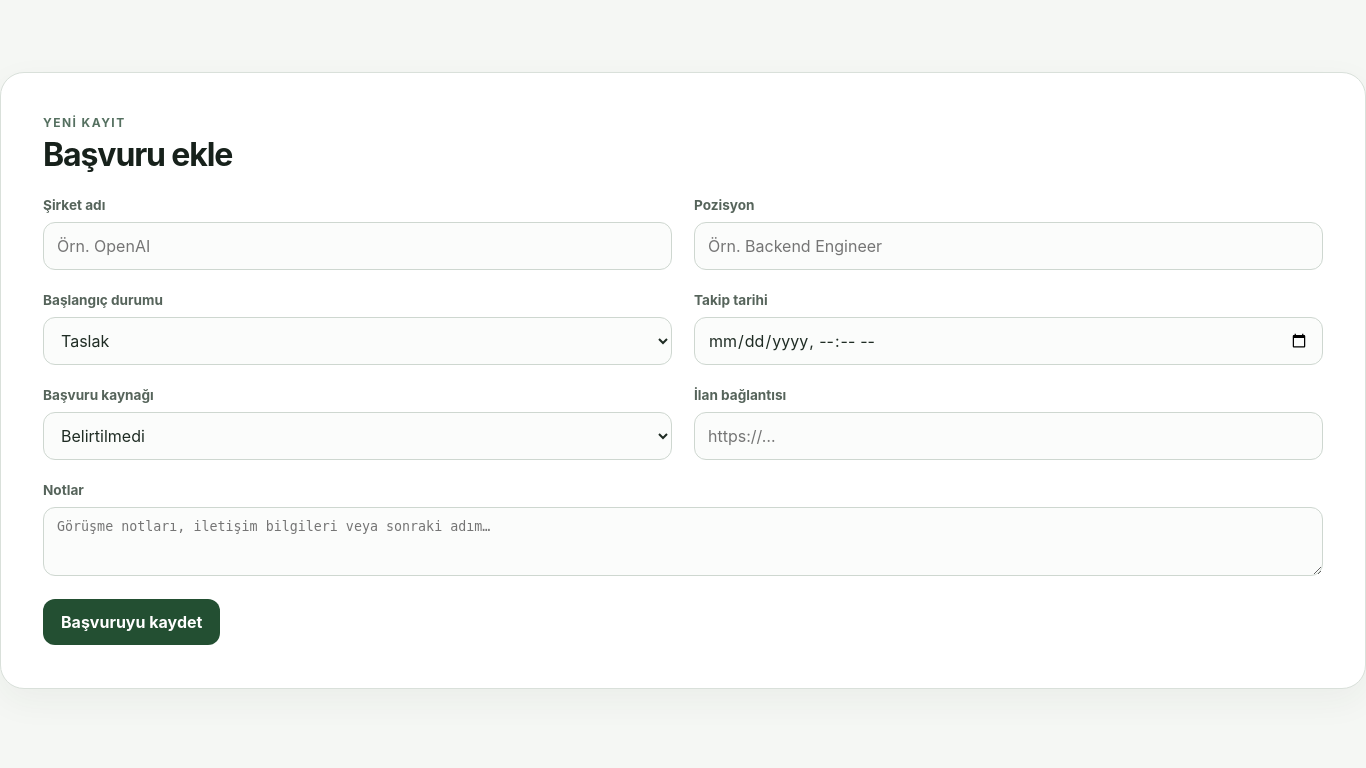
Test: ApplicationForm › creates an application and refreshes the dashboard
The width and height of the screenshot is (1366, 768).
Type "  OpenAI  " into the field labelled "Şirket adı". click: (358, 246)
box: [43, 222, 672, 270]
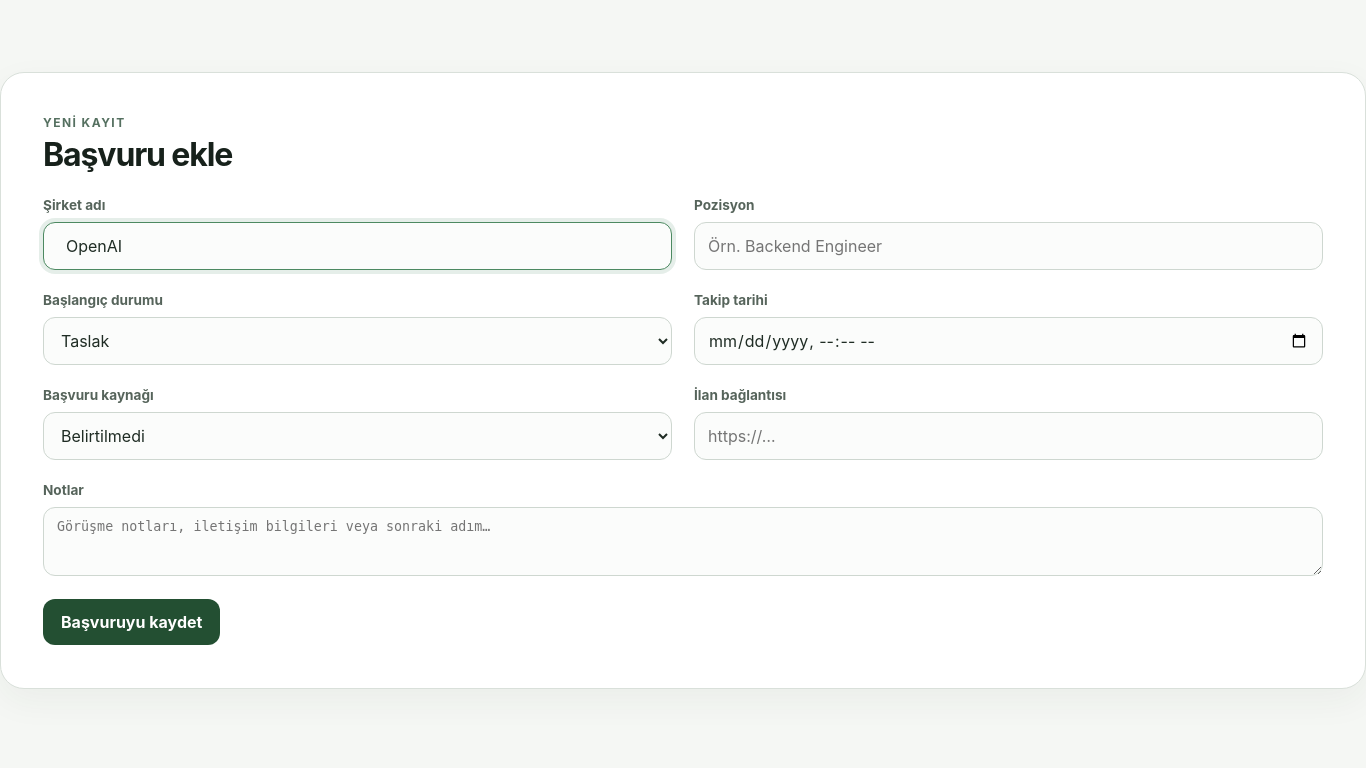
Type "  Backend Engineer  " into the field labelled "Pozisyon". click: (1008, 246)
box: [694, 222, 1323, 270]
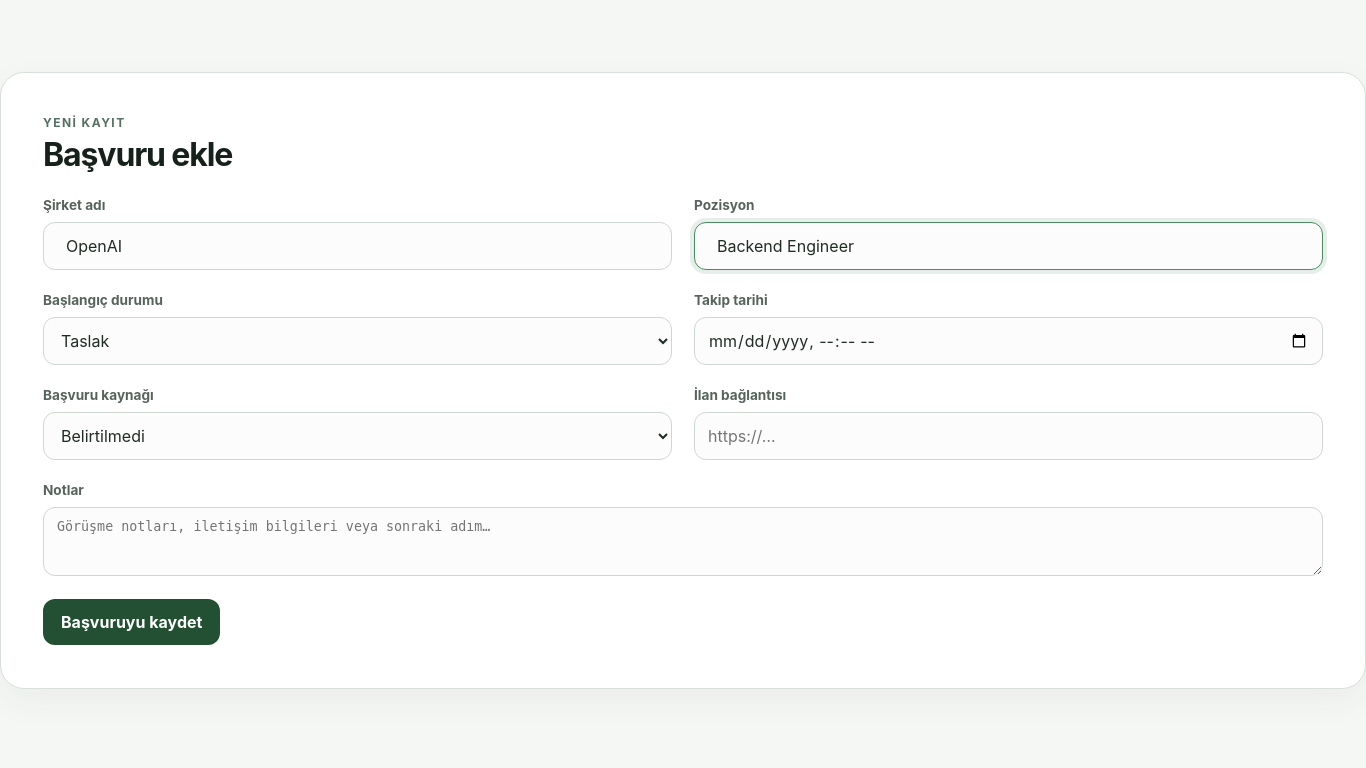
Select "Başvuruldu" in the dropdown labelled "Başlangıç durumu". click: (358, 340)
box: [43, 316, 672, 364]
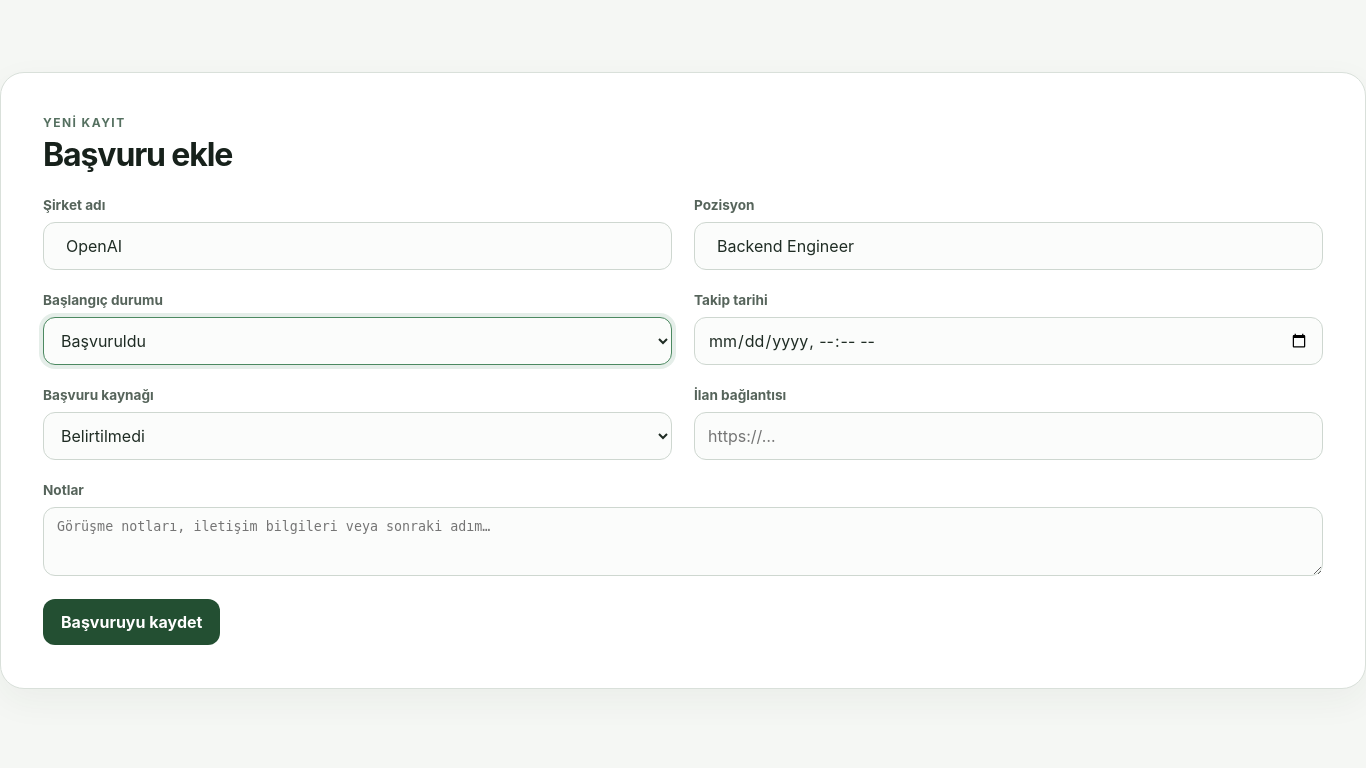
Click the button "Başvuruyu kaydet". click: click(132, 622)
box: [43, 598, 220, 644]
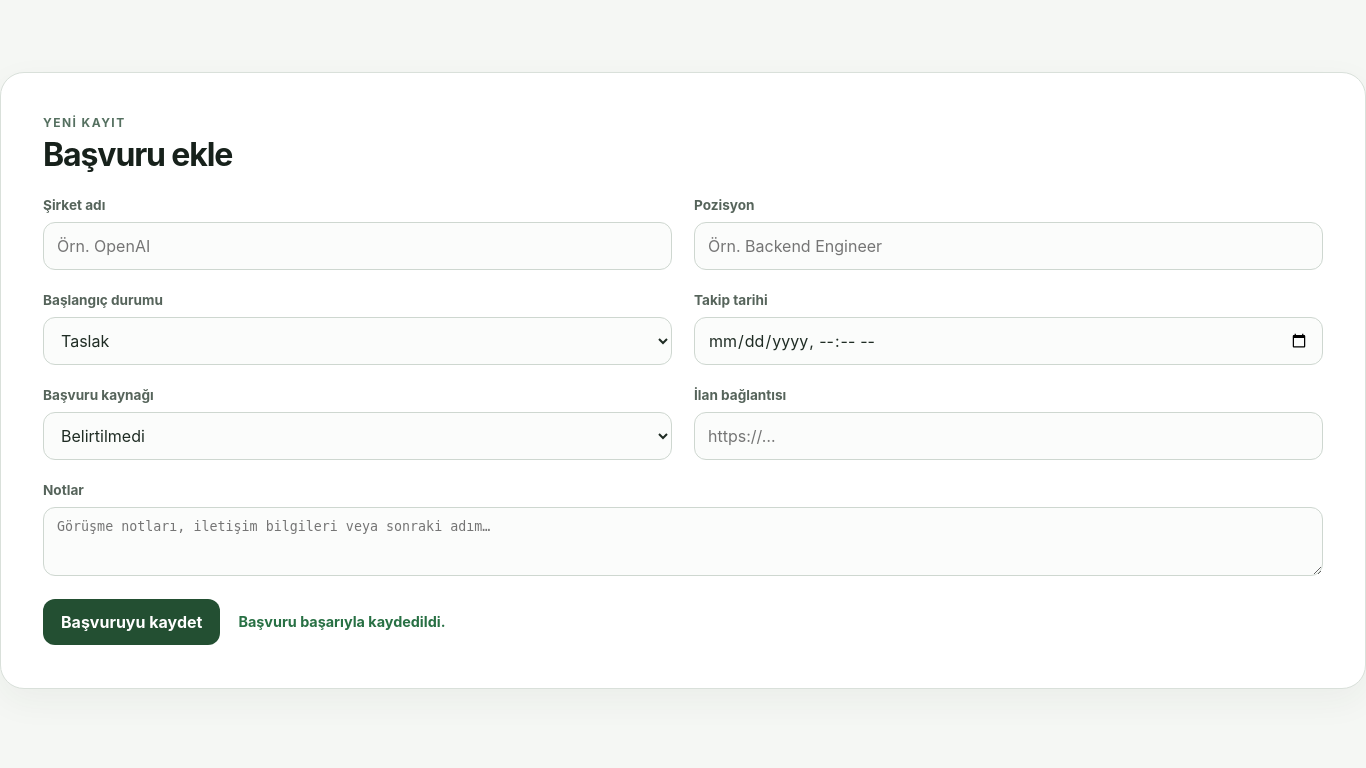
Result: the text "Başvuru başarıyla kaydedildi." is shown at [238, 613, 446, 630]
